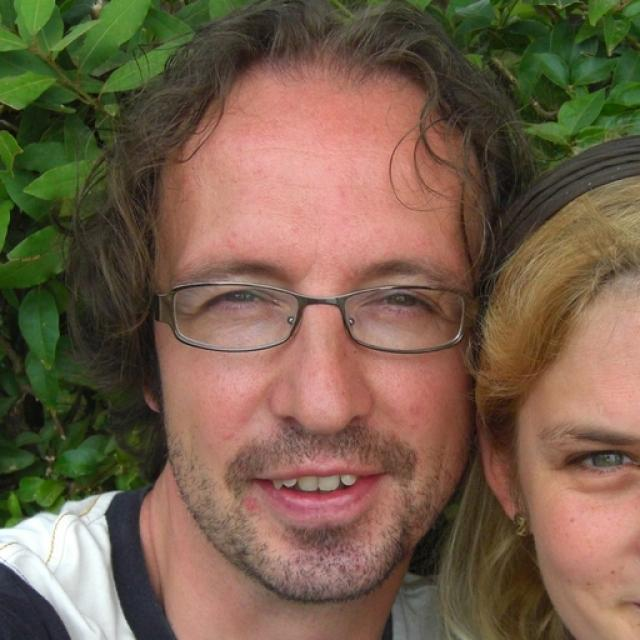happy: (156, 51, 478, 604), (522, 261, 640, 640)
